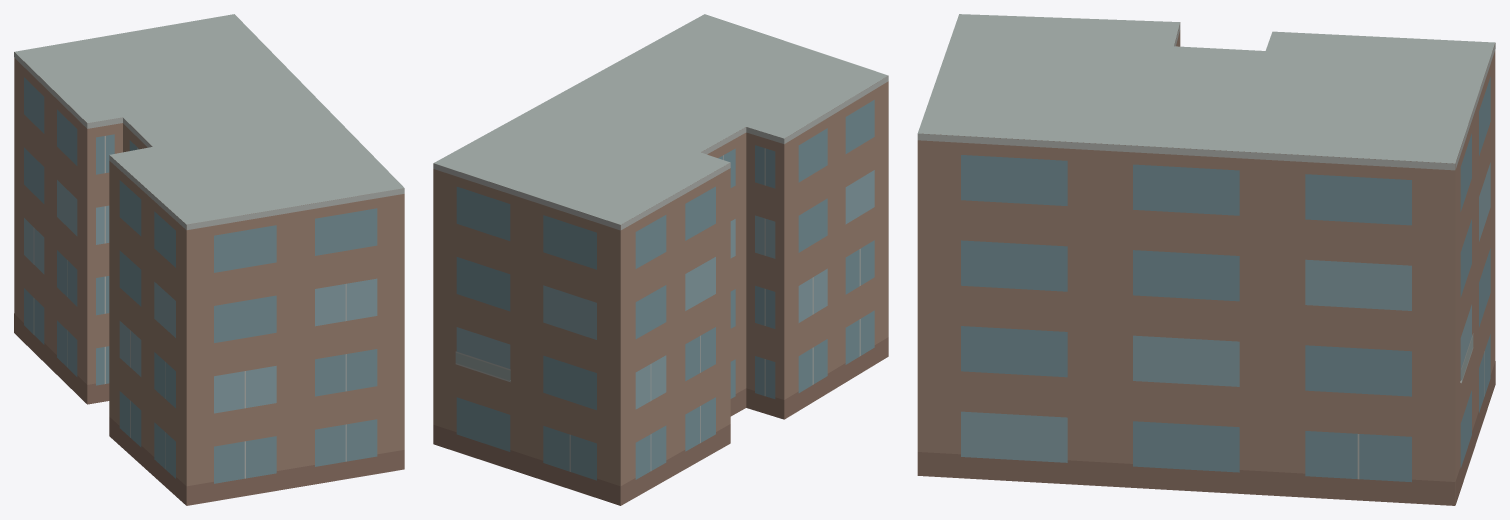
Rendered from survey-upis-32642066.glb.
3 views of the same model, side by side, from view 1: azimuth 30°, elevation 25°; view 2: azimuth 150°, elevation 25°; view 3: azimuth 270°, elevation 25° (orthographic). The views are drawn at different scales.
Visible parts, largest first — view 1: survey-upis-32642066.tmp; view 2: survey-upis-32642066.tmp; view 3: survey-upis-32642066.tmp.
Part boxes in pixels (x1,y1,x2,y2): survey-upis-32642066.tmp: [14, 14, 404, 505]; survey-upis-32642066.tmp: [433, 14, 888, 505]; survey-upis-32642066.tmp: [917, 14, 1495, 505].
Bounding box in the file's own units: 11.44 × 12.2 × 18.67.
